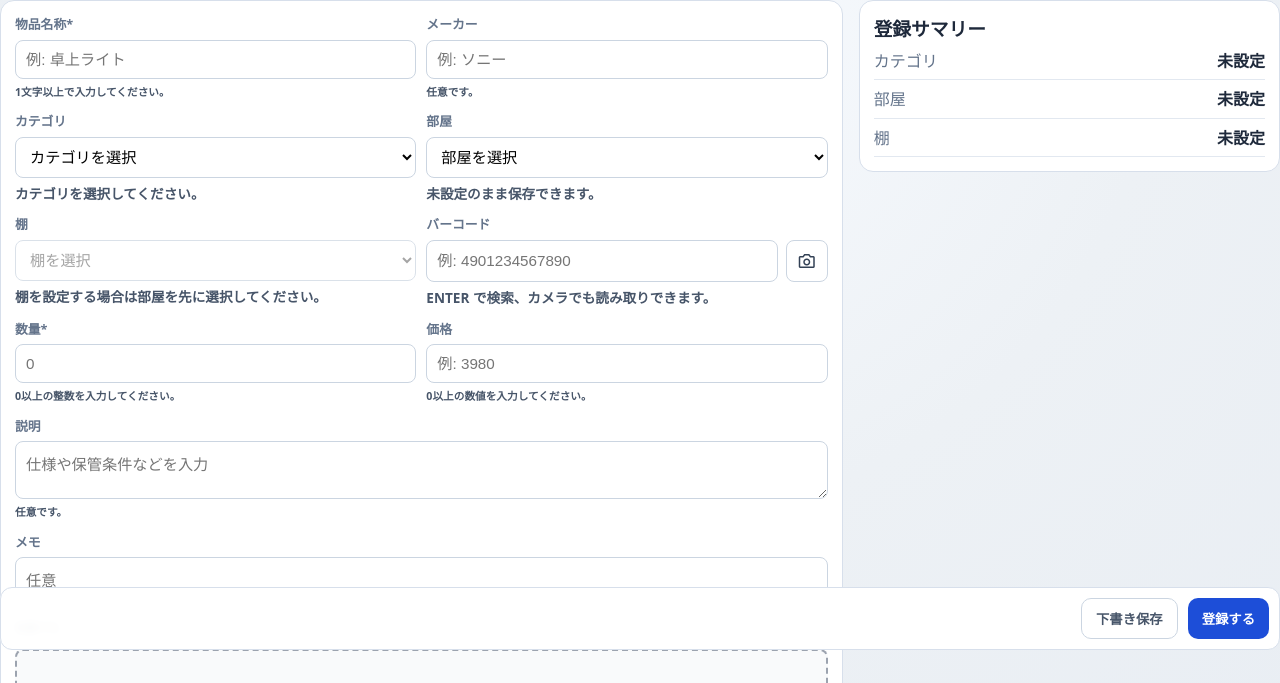
ItemForm barcode › 商品名欠損時は保存不可メッセージを表示する
This screenshot has width=1280, height=683.
Step 1. Type "4901234567890" into the field named "barcode" → {"x": 602, "y": 261}, box [426, 240, 778, 282]
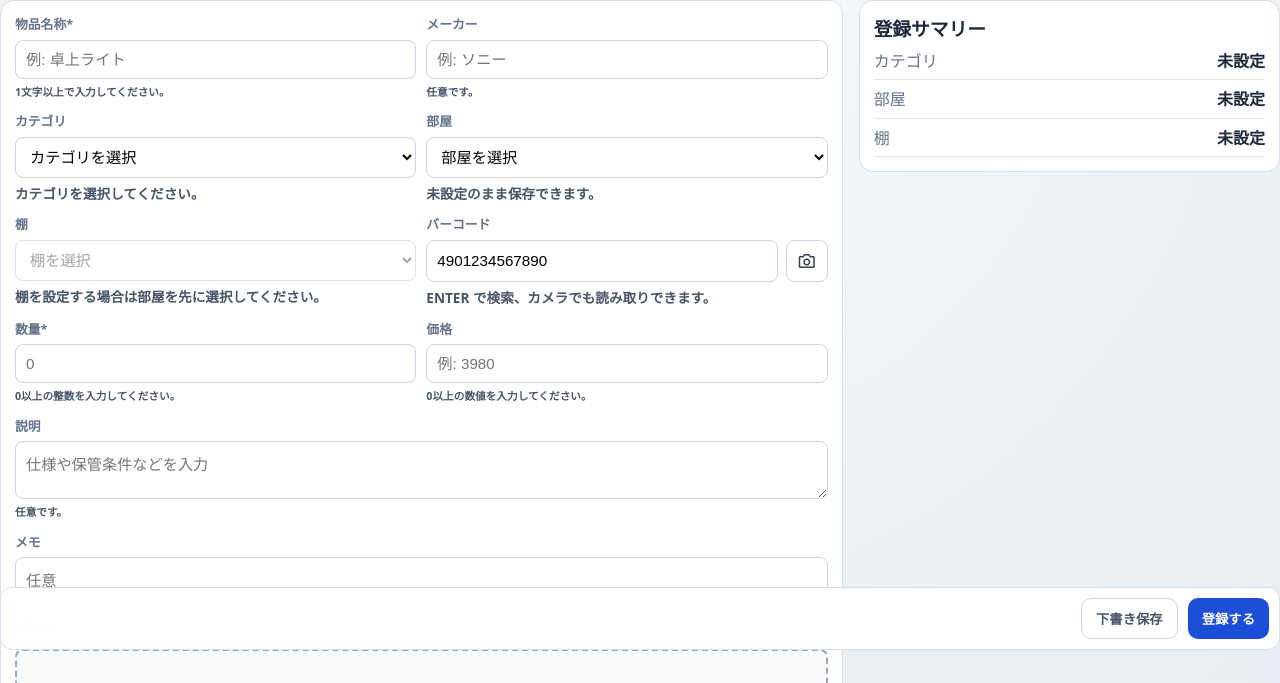
Step 2. Press Enter in the field named "barcode", box [426, 240, 778, 282]
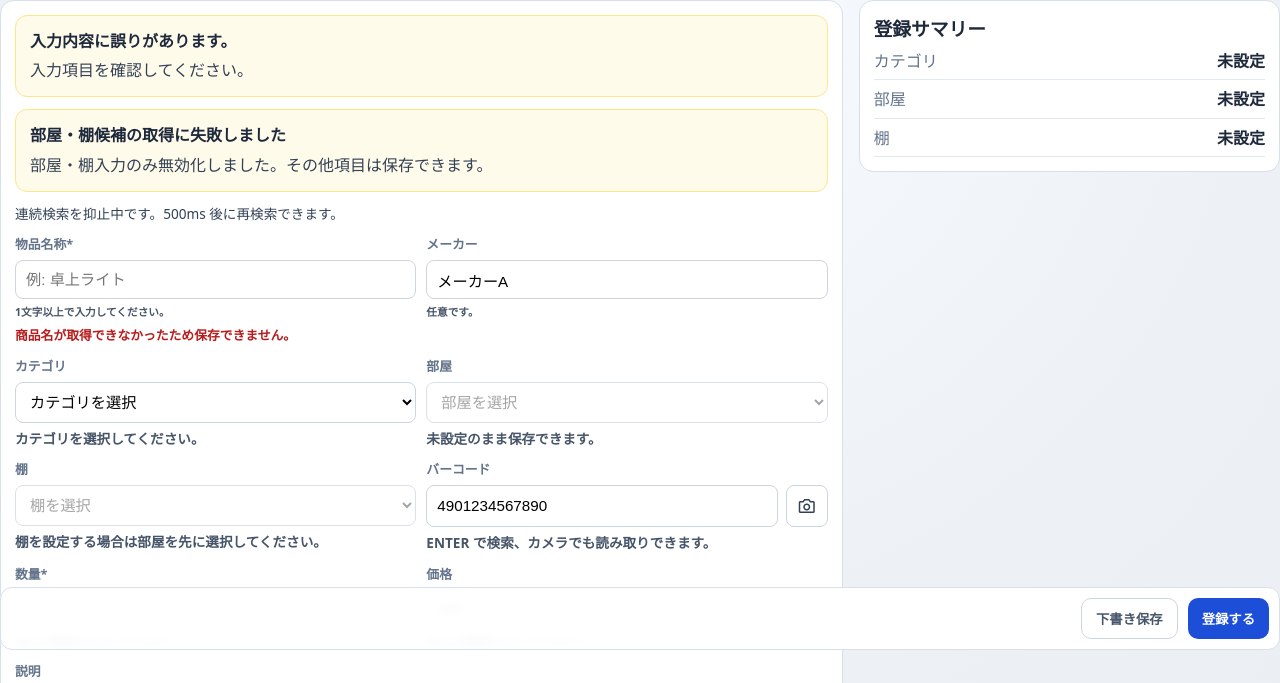
Now the text "商品名が取得できなかったため保存できません。" is shown, box [15, 326, 296, 344]
